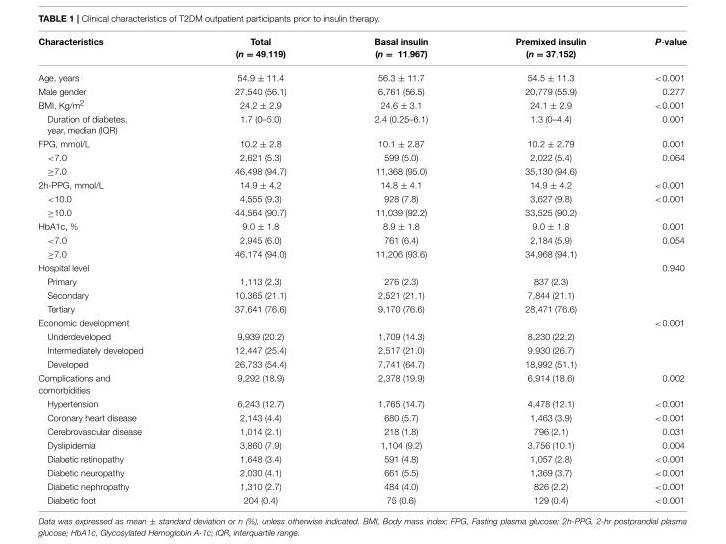table: (37, 37, 686, 504)
table column: (37, 37, 188, 504), (471, 37, 619, 504), (329, 37, 471, 504), (188, 37, 329, 504), (619, 37, 686, 504)
table column header: (37, 37, 686, 65)
table row: (37, 37, 686, 65), (37, 370, 686, 396), (37, 112, 686, 136), (37, 65, 686, 84), (37, 97, 686, 112), (37, 136, 686, 150), (37, 150, 686, 164), (37, 164, 686, 178), (37, 191, 686, 205), (37, 205, 686, 219), (37, 219, 686, 233), (37, 246, 686, 260), (37, 260, 686, 274), (37, 274, 686, 288), (37, 288, 686, 302), (37, 315, 686, 329), (37, 329, 686, 343), (37, 343, 686, 357), (37, 396, 686, 410), (37, 410, 686, 424), (37, 424, 686, 438), (37, 438, 686, 452), (37, 465, 686, 479), (37, 479, 686, 493), (37, 84, 686, 97), (37, 178, 686, 191), (37, 233, 686, 246), (37, 302, 686, 315), (37, 357, 686, 370), (37, 452, 686, 465), (37, 493, 686, 504)
